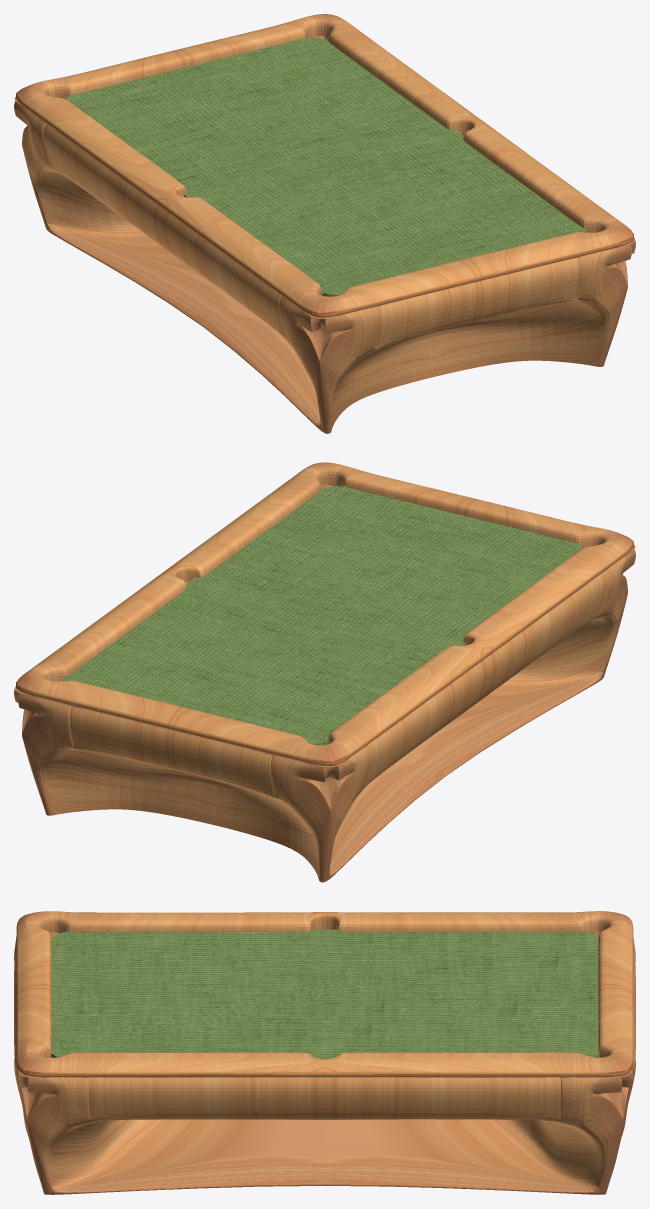
Rendered from pooltable.obj.
3 renders of one model, top to bottom at view 1: azimuth 30°, elevation 25°; view 2: azimuth 150°, elevation 25°; view 3: azimuth 270°, elevation 25°, orthographic.
Visible parts, largest first — view 1: the_pooltable; view 2: the_pooltable; view 3: the_pooltable.
Part boxes in pixels (x1,y1,x2,y2): the_pooltable: (14,14,635,433); the_pooltable: (14,462,635,882); the_pooltable: (14,911,635,1194).
Bounding box in the file's own units: 7.67 × 3.1 × 12.47.
